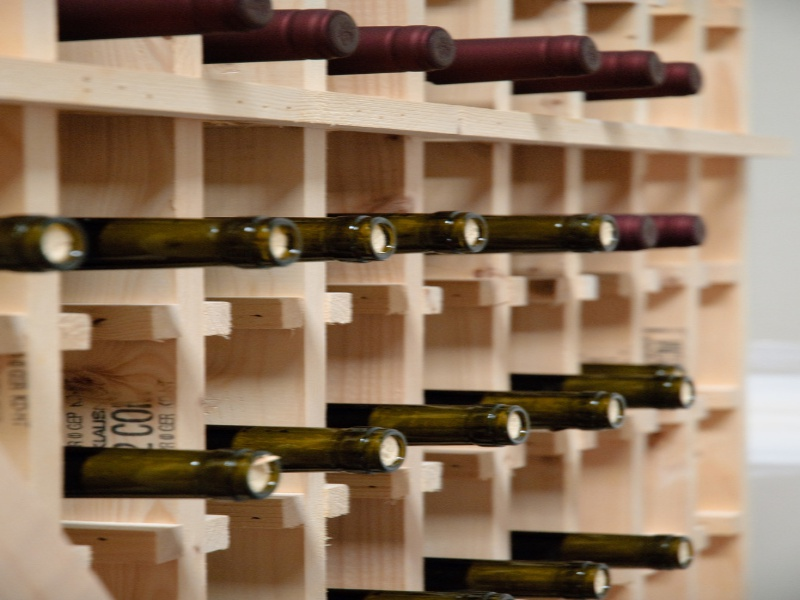wine: (2, 3, 725, 600)
